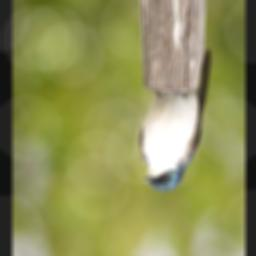Swallow: (136, 48, 211, 198)
